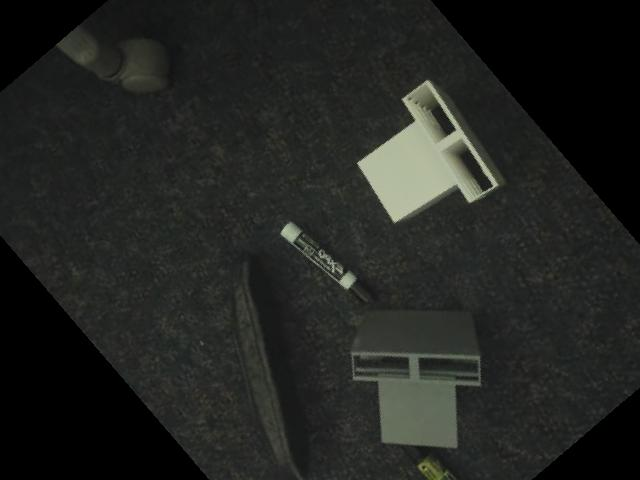grey pallet: (336, 289, 508, 455)
white pallet: (350, 63, 521, 237)
